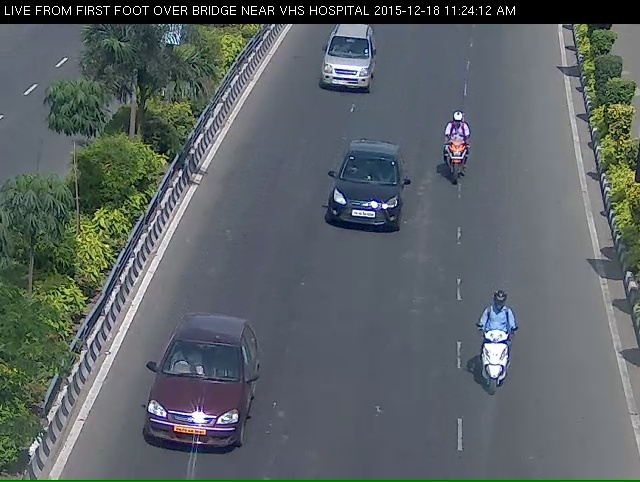Car: (122, 340, 246, 478), (320, 150, 404, 260), (305, 25, 394, 106)
Person: (469, 310, 518, 428), (436, 121, 477, 214)
